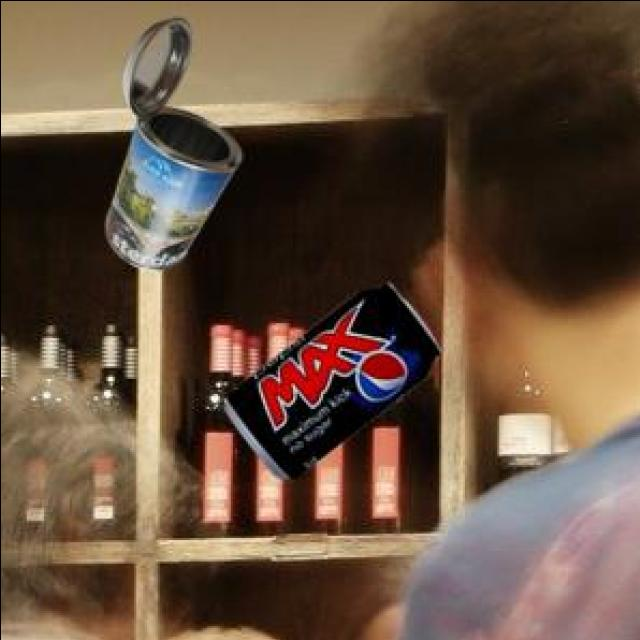logam: (220, 280, 435, 474), (102, 14, 237, 265)
